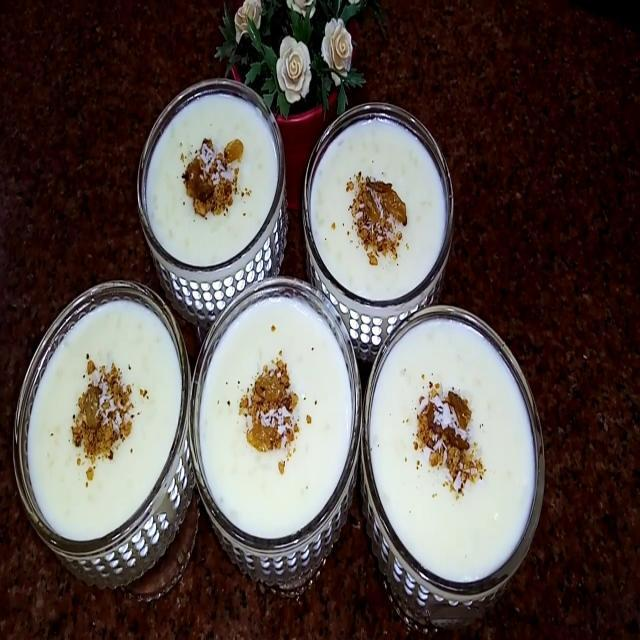roz blabn: (367, 308, 547, 602), (19, 291, 188, 571), (194, 285, 352, 582), (303, 114, 453, 314), (134, 81, 283, 278)
